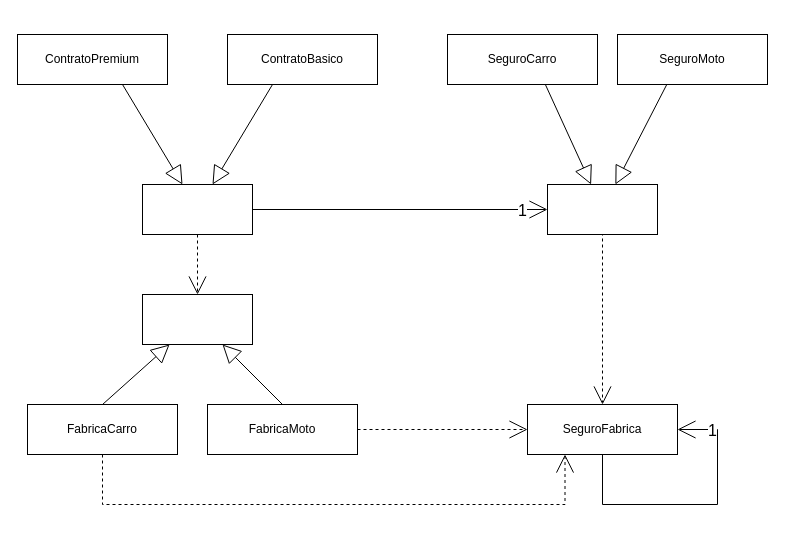
Some shapes in this 785 by 540 pixel diagram are drawn without their labels. The shapes that lost their labels are listed below. From the top down, each one's centre as x and y in pixels, then its label:
pixel 197 209: «abstract » Contrato
pixel 602 209: «interface» Seguro
pixel 197 319: «abstract » FabricaAbstrata
